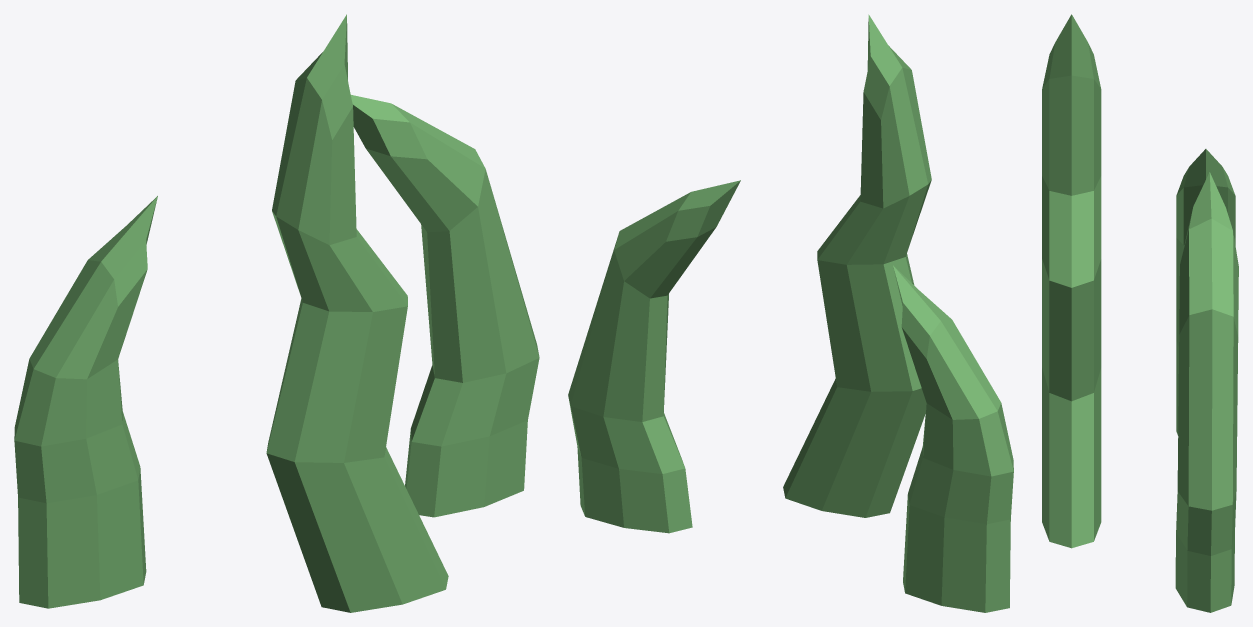
The model's file is Grass2.glb.
3 renders of one model, left to right at view 1: azimuth 30°, elevation 25°; view 2: azimuth 150°, elevation 25°; view 3: azimuth 270°, elevation 25°, orthographic. The views are drawn at different scales.
Visible parts, largest first — view 1: Grass2; view 2: Grass2; view 3: Grass2.
Part boxes in pixels (x1,y1,x2,y2): Grass2: [14, 14, 539, 612]; Grass2: [568, 14, 1013, 612]; Grass2: [1042, 14, 1238, 612].
Bounding box in the file's own units: 0.4073 × 0.4341 × 0.1572.
